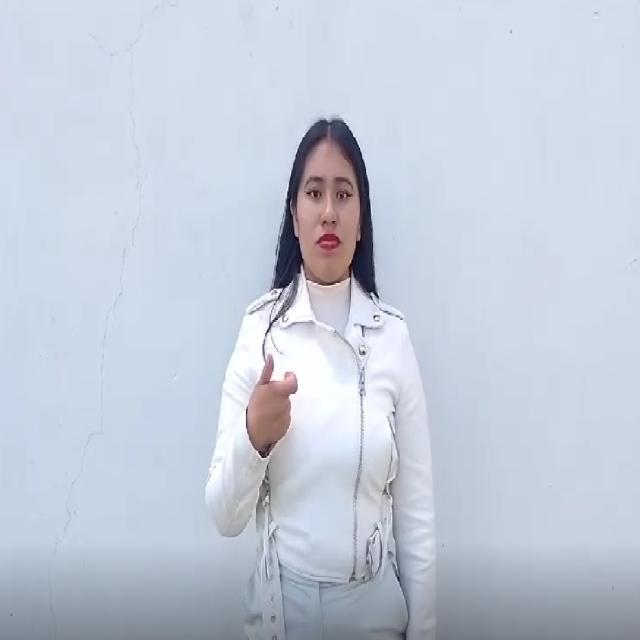X: (230, 338, 310, 476)
